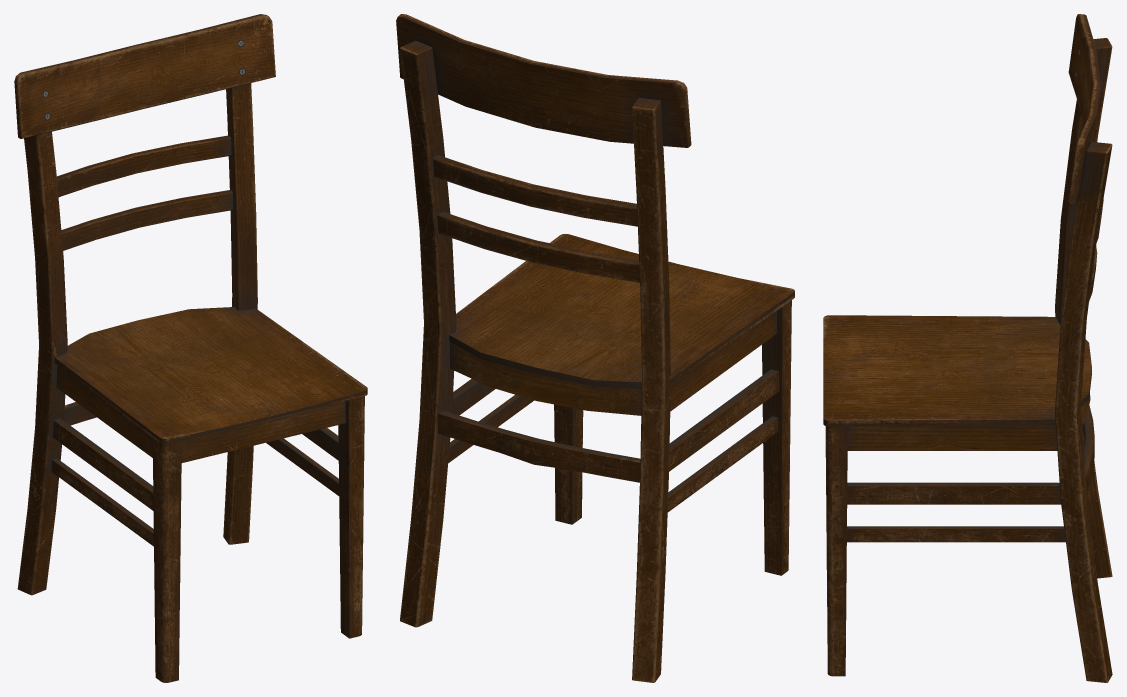
Rendered from chair_wooden_-_18mb_-_2k.glb.
3 renders of one model, left to right at view 1: azimuth 30°, elevation 25°; view 2: azimuth 150°, elevation 25°; view 3: azimuth 270°, elevation 25°, orthographic. The views are drawn at different scales.
Visible parts, largest first — view 1: defaultMaterial_Mat_0; view 2: defaultMaterial_Mat_0; view 3: defaultMaterial_Mat_0.
Boxes of the visible parts, x1,y1,x2,y2 form: defaultMaterial_Mat_0: (14,14,367,682); defaultMaterial_Mat_0: (396,14,794,682); defaultMaterial_Mat_0: (823,14,1112,682).
Size of the model in its own units: 54.29 by 107 by 51.03.
Materials: 1 (1 with a texture image).
